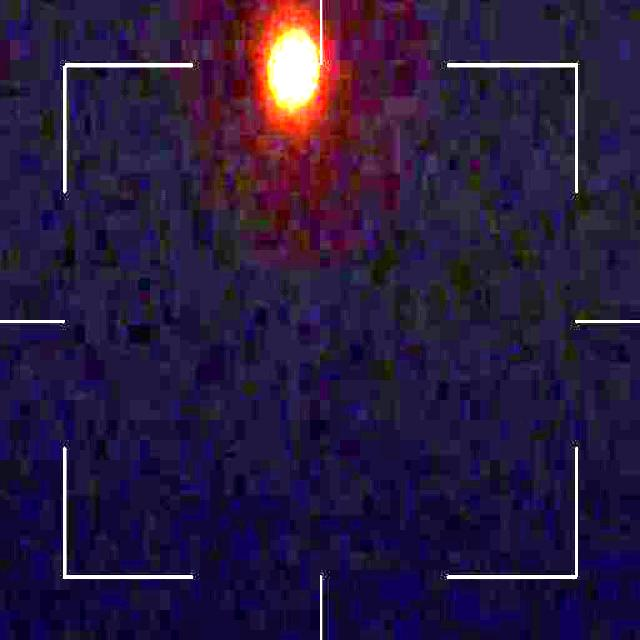bird: (271, 31, 320, 105)
